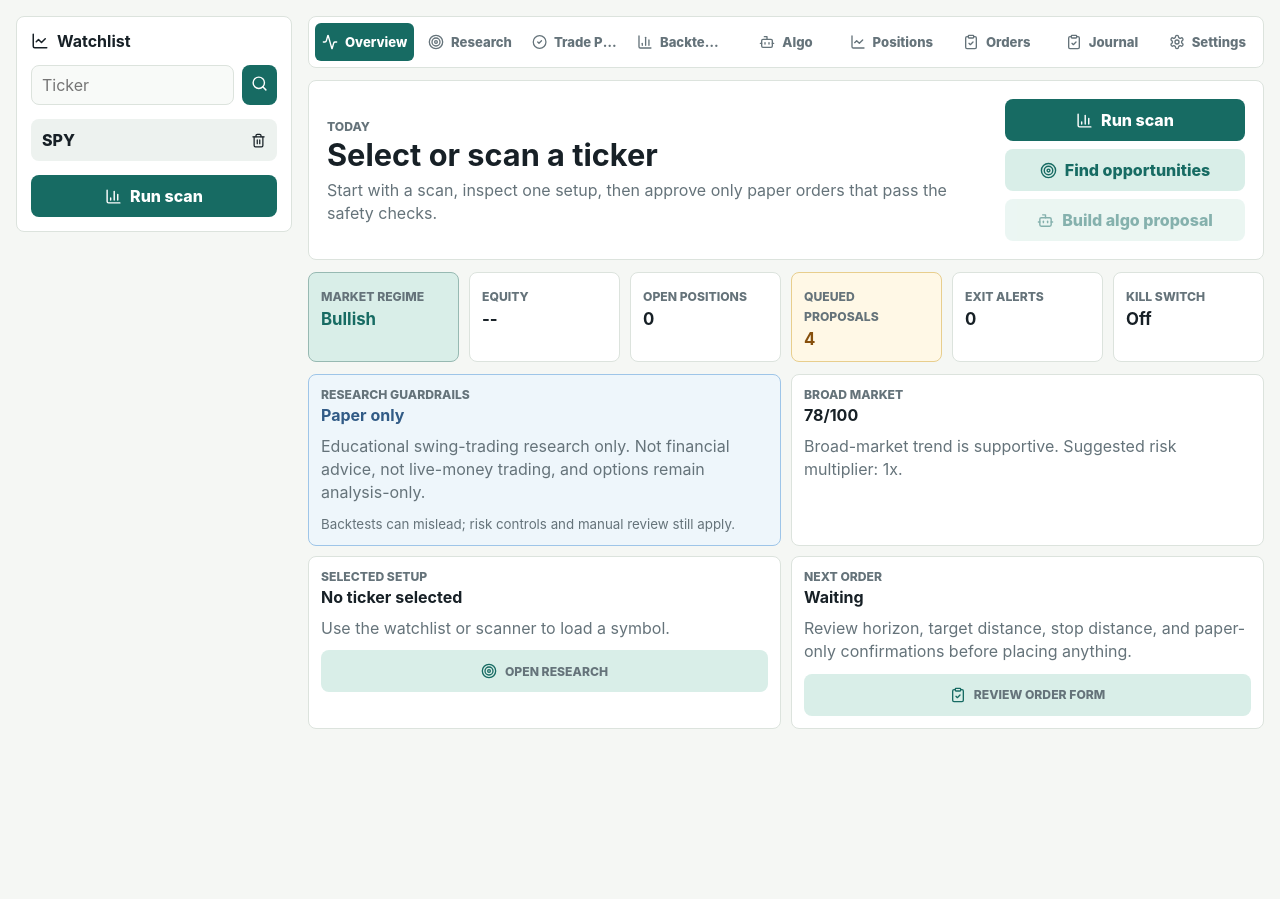
Test case: dashboard › renders the operating dashboard
expect the text "SPY" is shown: met, box [42,130,75,150]
expect the button "Overview" is shown: met, box [315,23,414,61]
What coordinates should you click on to do the following:
click the button "Research"
I would click on:
 (470, 42)
Its box is [420,23,520,61].
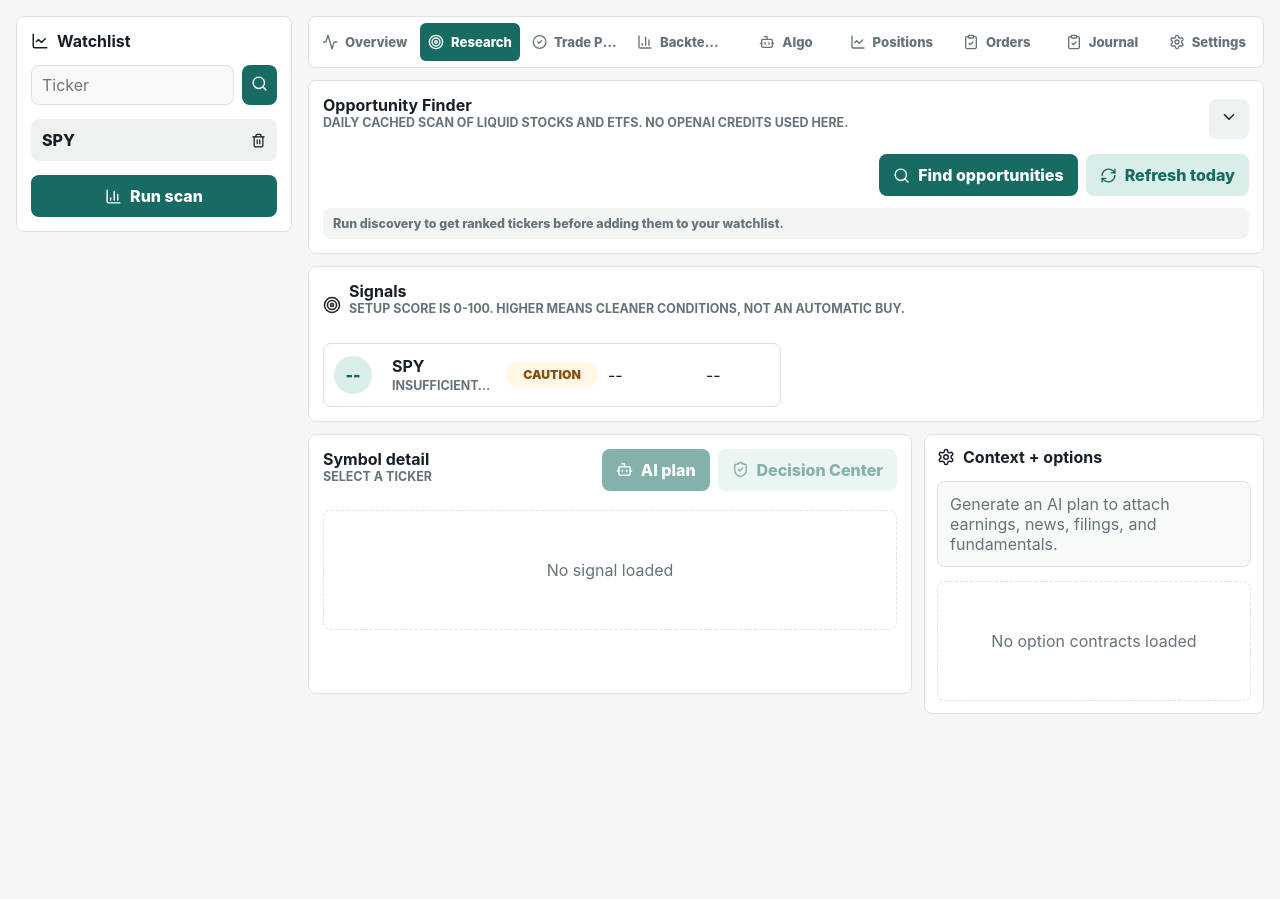
expect the heading "Opportunity Finder" is shown: met, box [323,95,472,115]
What coordinates should you click on to do the following:
click the button "Trade Plan"
I would click on:
 (575, 42)
Its box is [526,23,625,61].
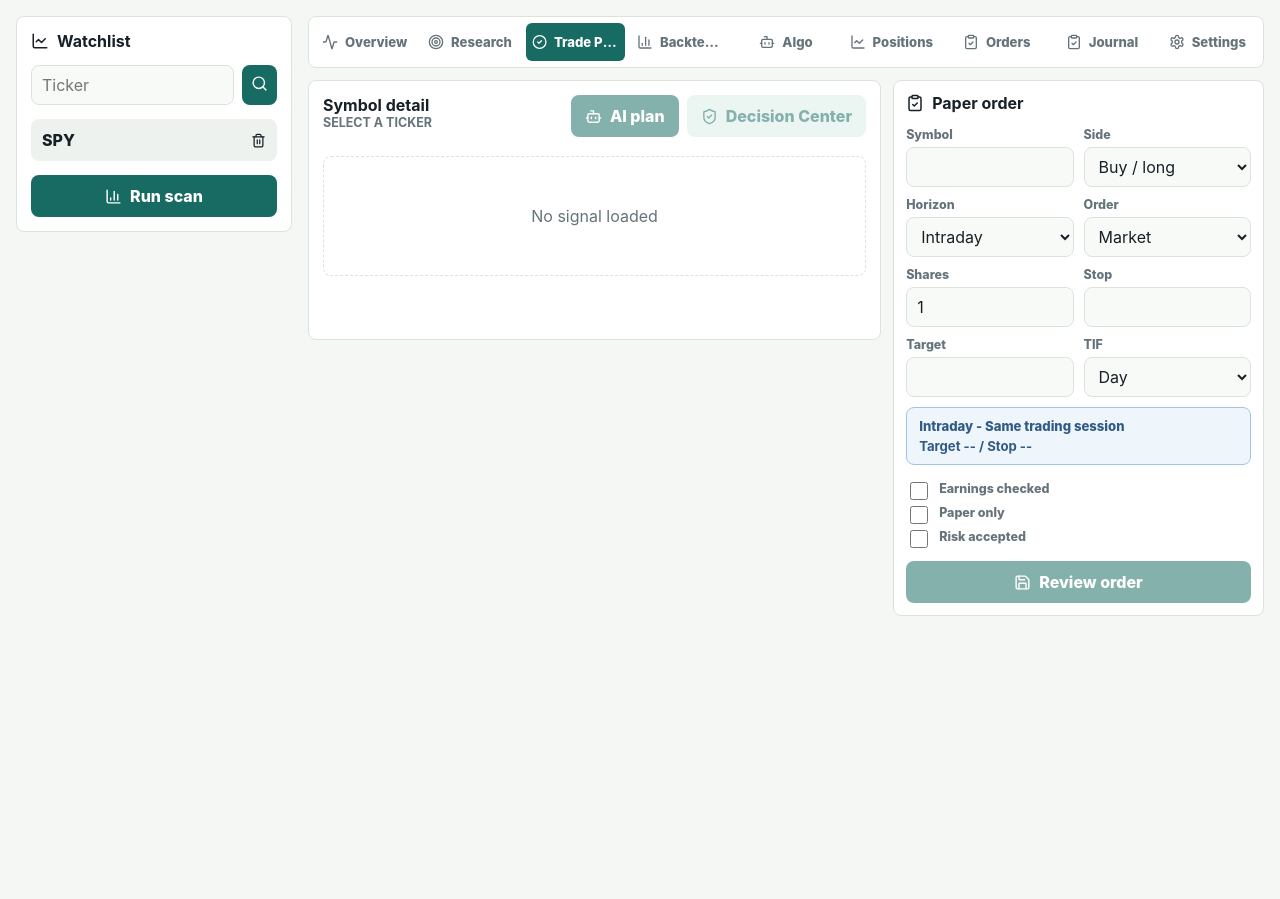
expect the text "No signal loaded" is shown: met, box [323,156,866,276]
expect the heading "Paper order" is shown: met, box [932,93,1024,113]
What coordinates should you click on to do the following:
click the button "Algo"
I would click on:
 (786, 42)
Its box is [736,23,836,61].
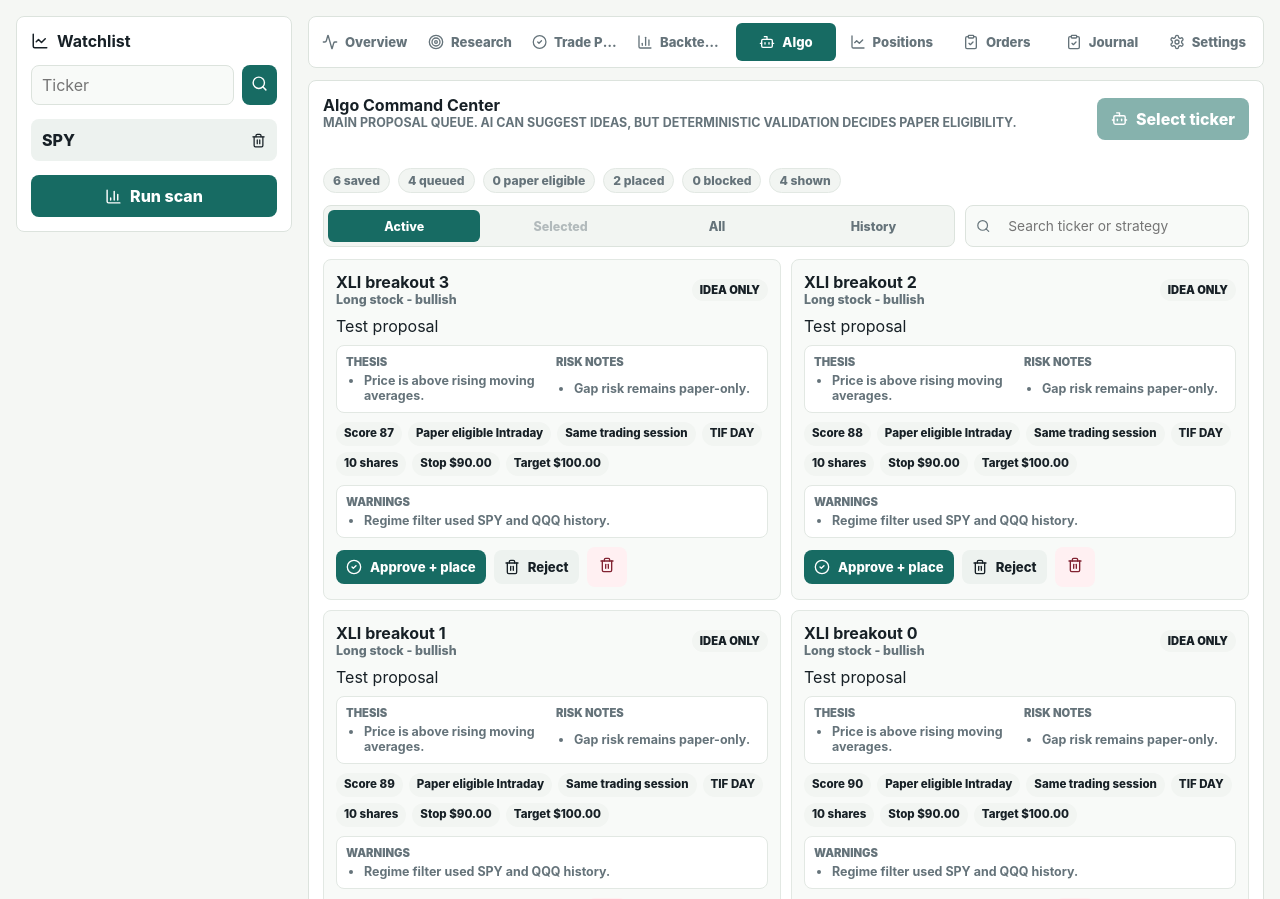
expect the heading "Algo Command Center" is shown: met, box [323,95,500,115]
